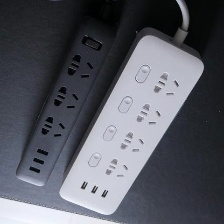three_eye_plug: (57, 23, 207, 218), (13, 14, 118, 189)
